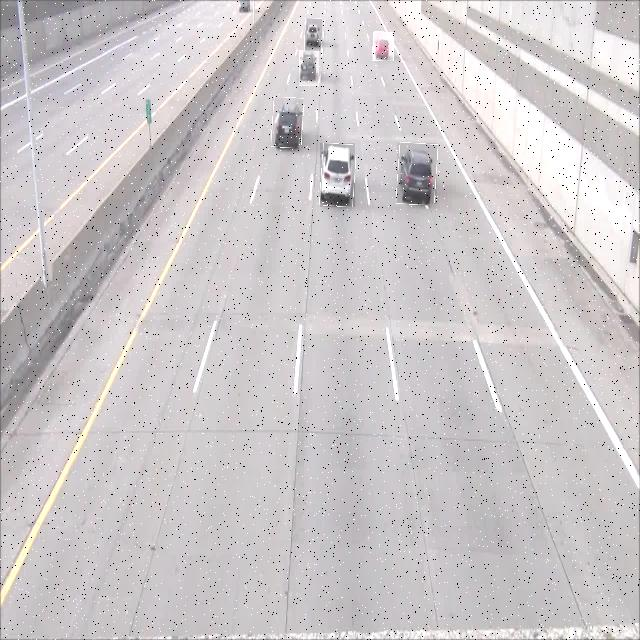Car: (397, 143, 437, 204), (320, 143, 355, 207), (272, 98, 303, 148), (299, 50, 319, 86), (373, 32, 394, 61), (305, 18, 322, 51)
